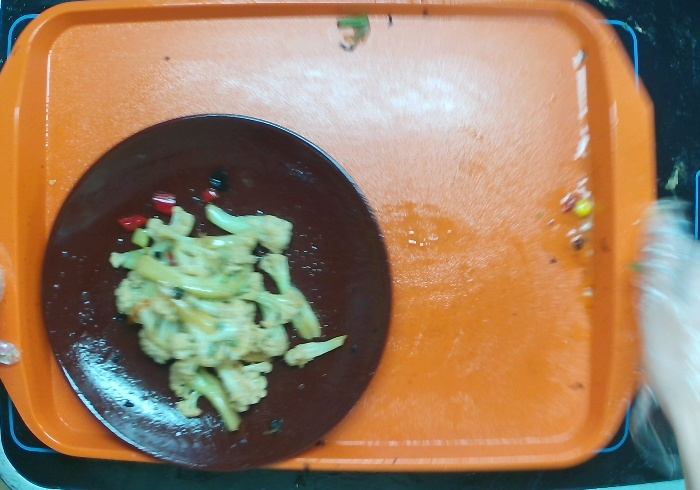HZYJPL-Ka_Fei_Yuan_Pan: (29, 95, 416, 490)
